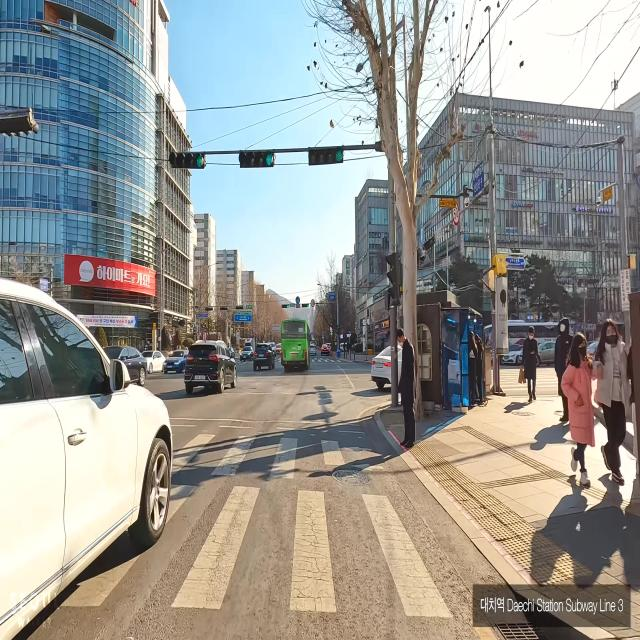Green Light: (194, 152, 203, 169), (265, 153, 273, 169), (335, 148, 343, 164), (307, 304, 309, 307), (287, 305, 289, 308)
